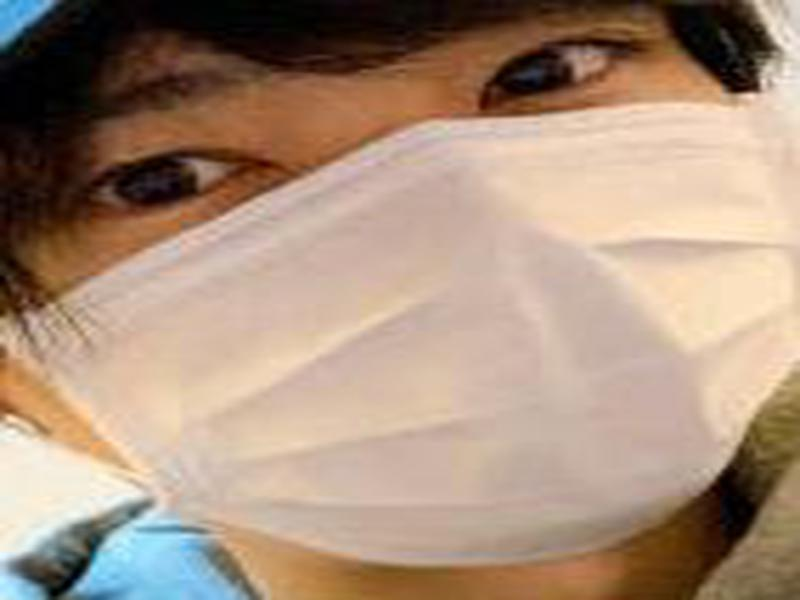with_mask: (1, 1, 797, 568)
